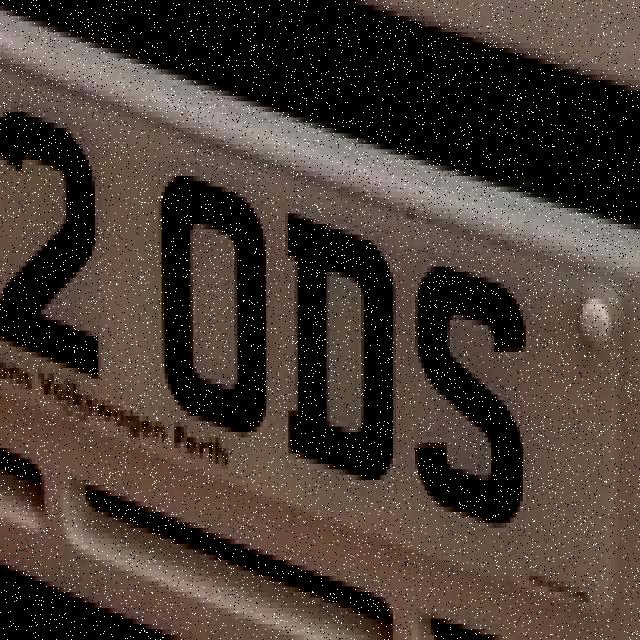licenseplate: (0, 25, 623, 625)
